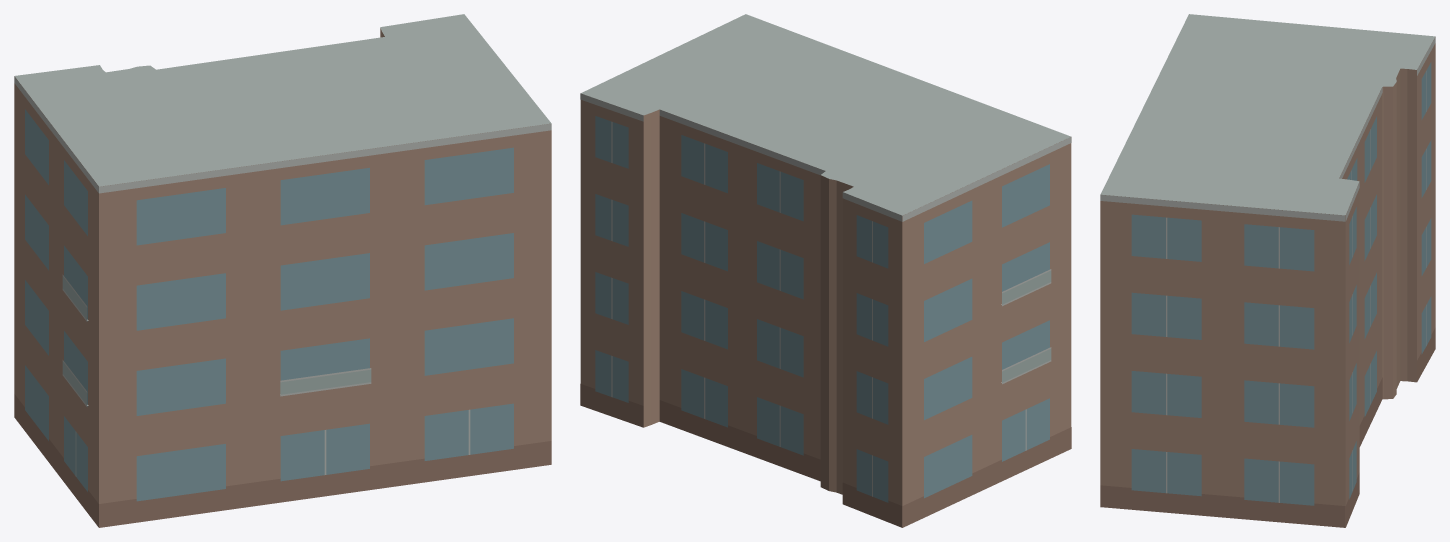
The model's file is survey-upis-32894247.glb.
3 views of the same model, side by side, from view 1: azimuth 30°, elevation 25°; view 2: azimuth 150°, elevation 25°; view 3: azimuth 270°, elevation 25° (orthographic). The views are drawn at different scales.
Parts seen in each view (by area): view 1: survey-upis-32894247.tmp; view 2: survey-upis-32894247.tmp; view 3: survey-upis-32894247.tmp.
Part boxes in pixels (x1=…): survey-upis-32894247.tmp: x1=14, y1=14, x2=551, y2=527; survey-upis-32894247.tmp: x1=580, y1=14, x2=1071, y2=527; survey-upis-32894247.tmp: x1=1100, y1=14, x2=1435, y2=527.
Bounding box in the file's own units: 16.81 × 12.15 × 11.82.
